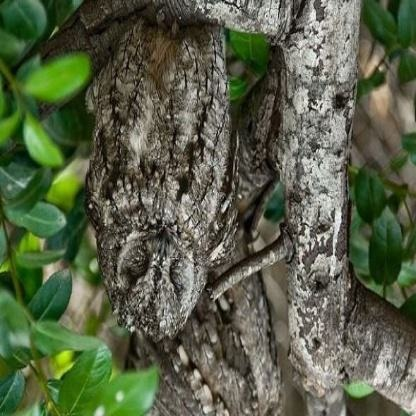Owl: (89, 21, 233, 339)
